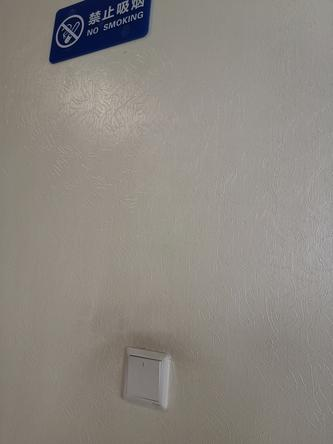switch: (123, 352, 171, 406)
